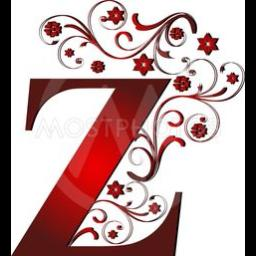z: (11, 76, 185, 256)
